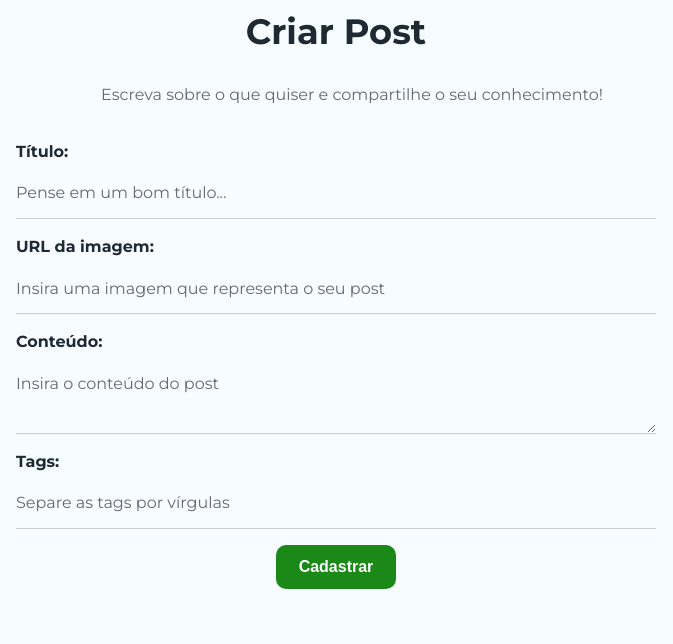
Test case: aguarda o cadastro, impede duplicatas e permanece no formulário quando há falha
The image size is (673, 644).
Step 1. Type " Meu post " into the field labelled "Título:" → (336, 194), box left=16, top=168, right=656, bottom=219
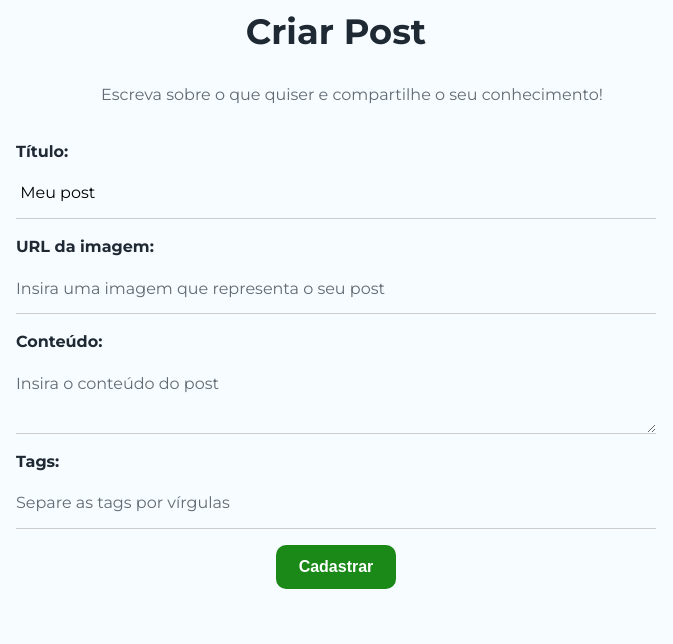
Step 2. Type "https://example.com/image.jpg" into the field labelled "URL da imagem:" → (336, 289), box left=16, top=264, right=656, bottom=314
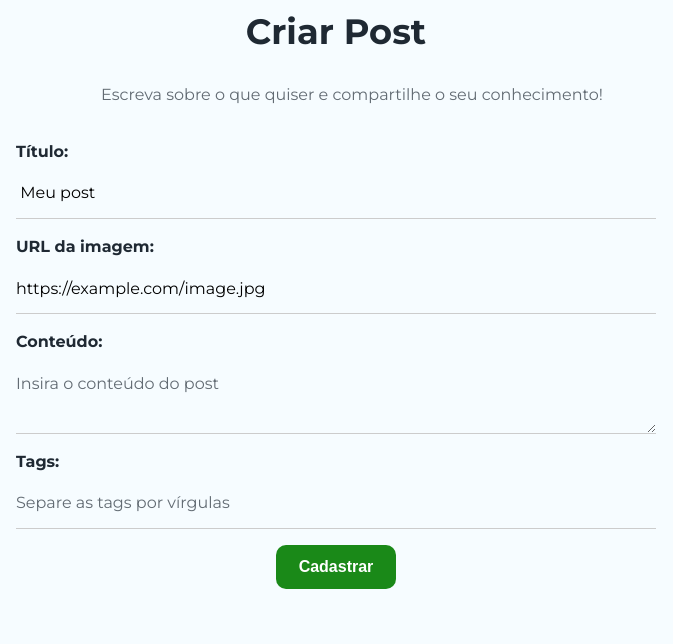
Step 3. Type " Meu conteúdo " into the text box labelled "Conteúdo:" → (336, 396), box left=16, top=359, right=656, bottom=434
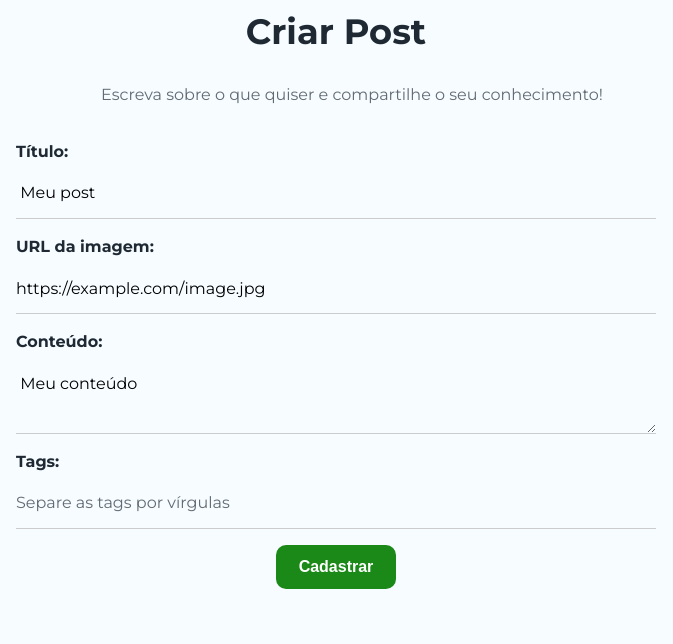
Step 4. Type "React, , react, JS" into the field labelled "Tags:" → (336, 504), box left=16, top=478, right=656, bottom=529
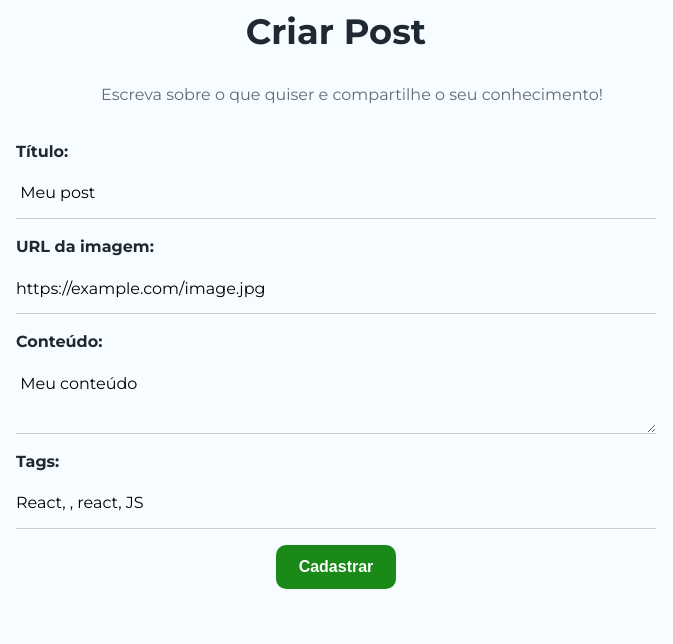
Step 5. Click the button "Cadastrar" → (336, 567), box left=276, top=545, right=396, bottom=589
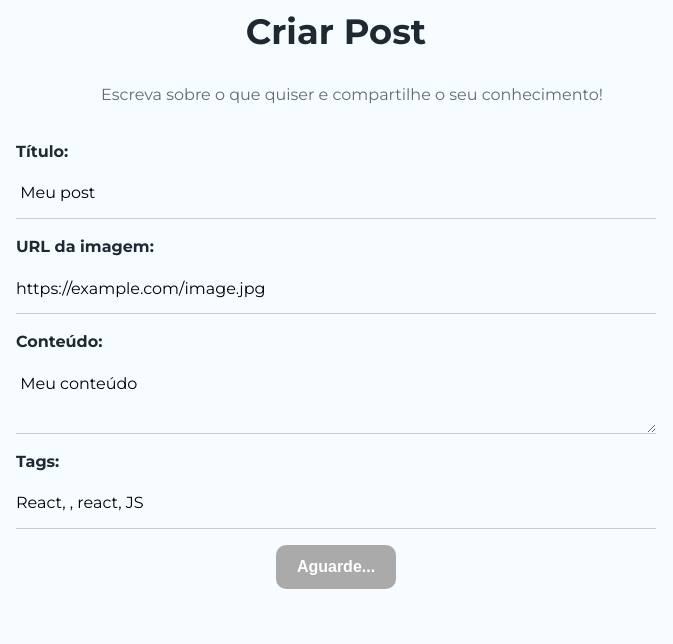
Check: the button "Aguarde..." is disabled, box left=276, top=545, right=396, bottom=589
Step 6. Submit the form named "Criar post"
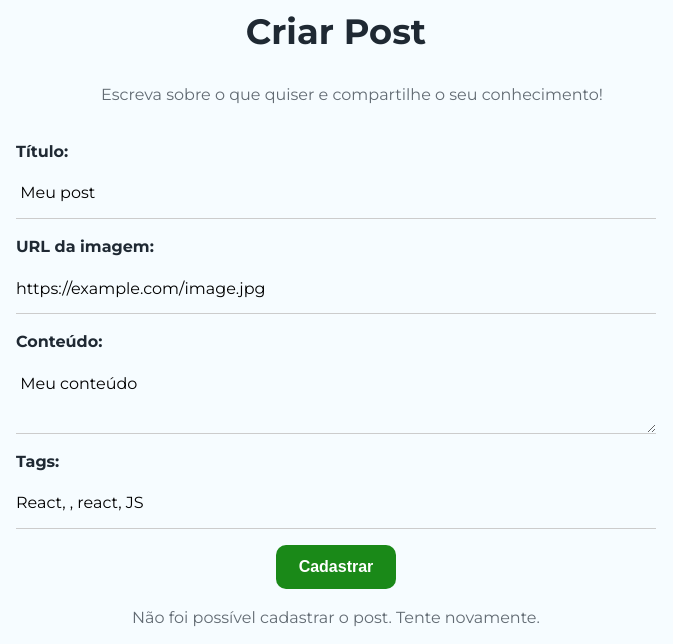
Check: the message shows "Não foi possível cadastrar", box left=132, top=608, right=540, bottom=627
Check: the button "Cadastrar" is enabled, box left=276, top=545, right=396, bottom=589
